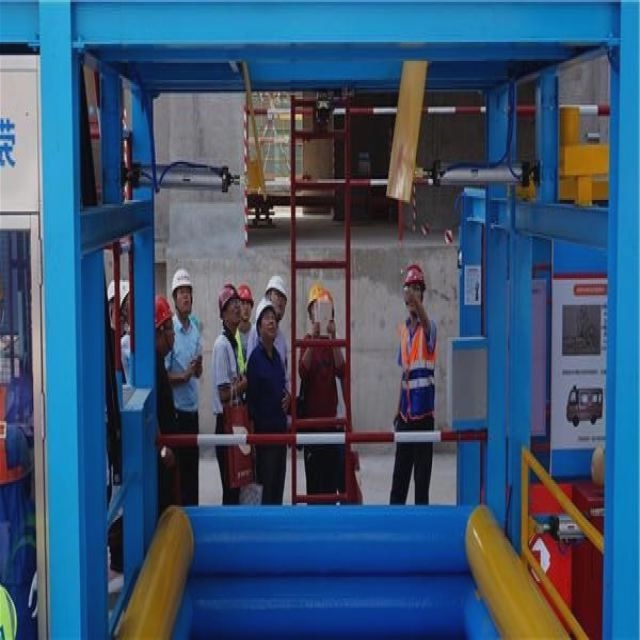Con_Chaleco: (396, 316, 440, 422)
